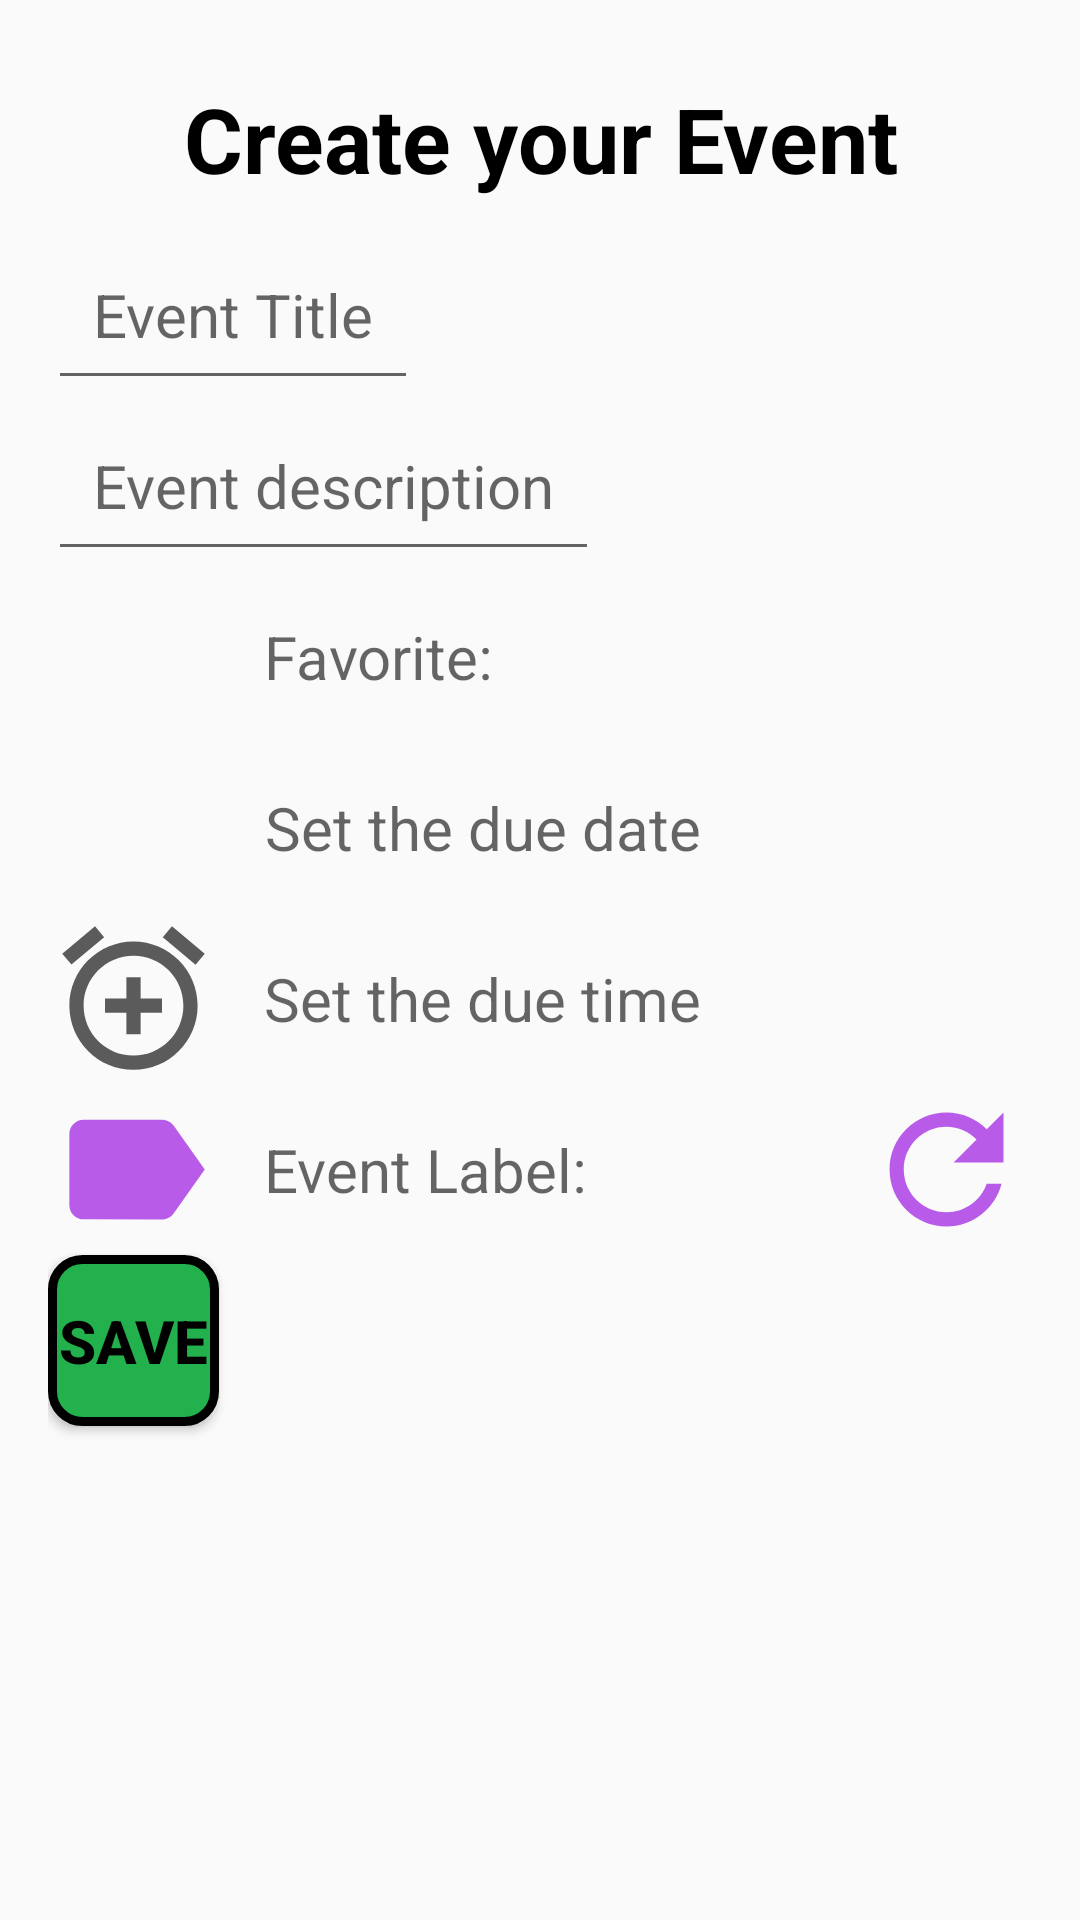

Where to tap for icons on this 1080w x 1920h app screen, as (x,y):
choose time: (133,998)
refresh: (946,1169)
